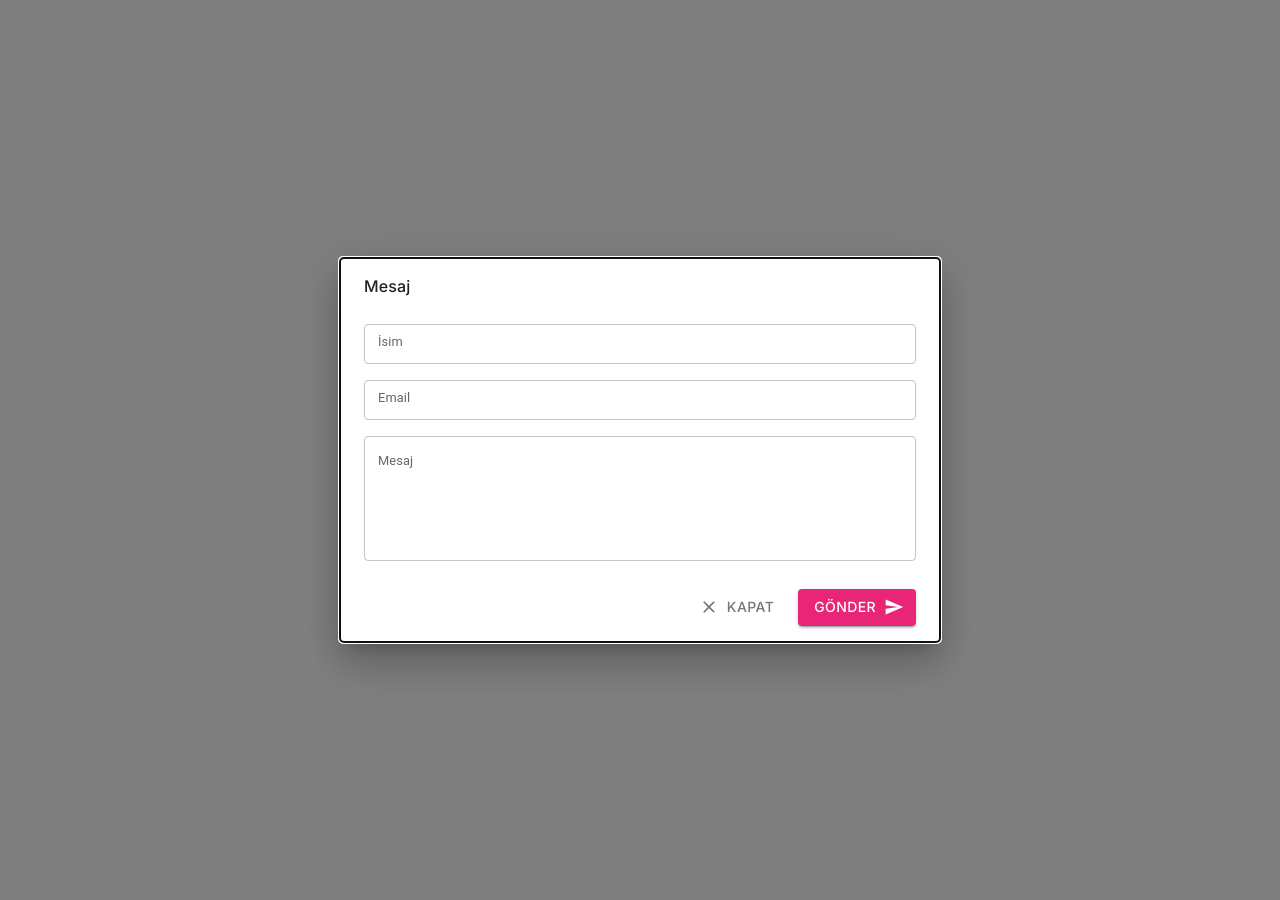
Message Component › zorunlu alan validation çalışır
Click the button "Gönder" at [857, 607], box [798,589,916,626]
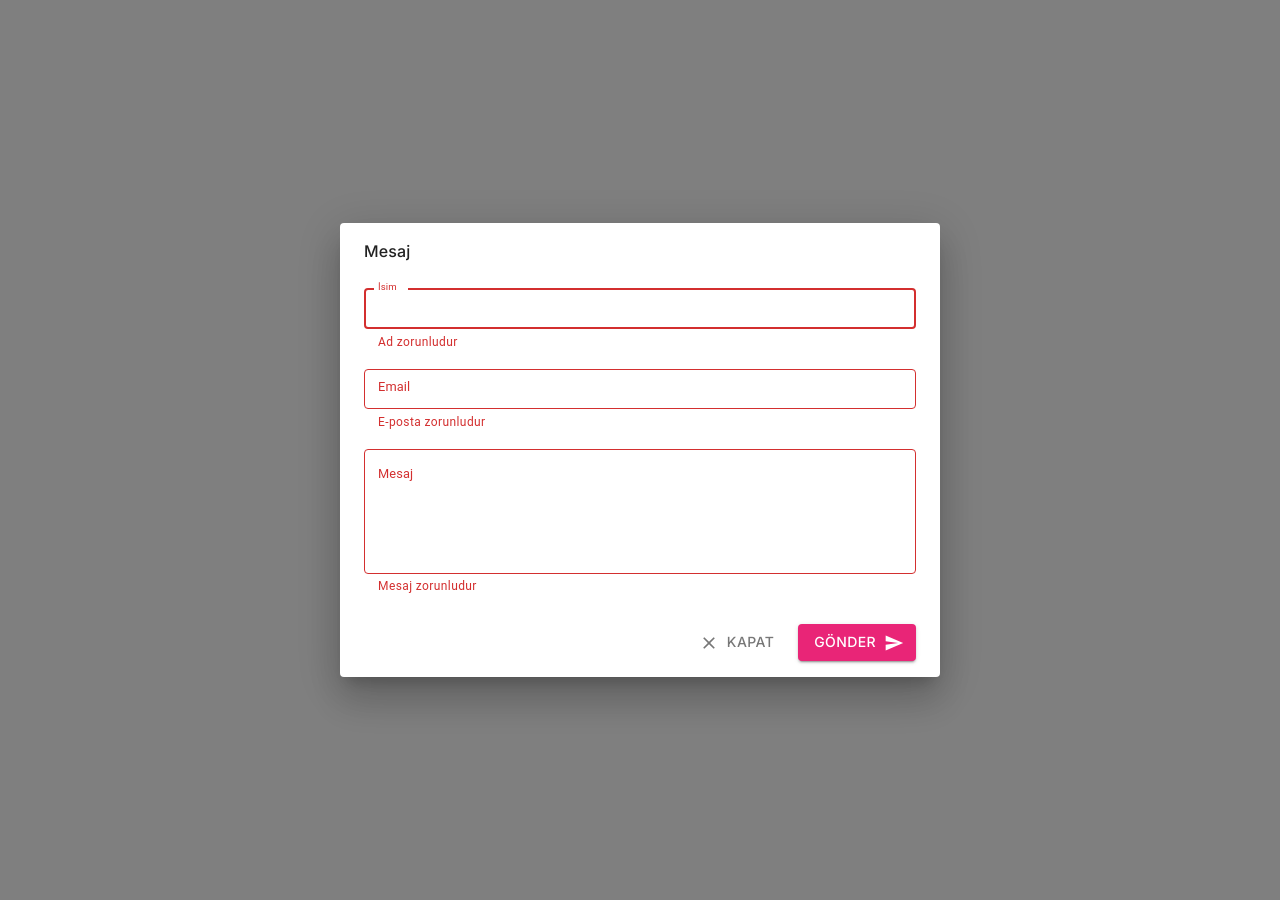
Result: the text "Ad zorunludur" is shown at [378,335,458,349]
